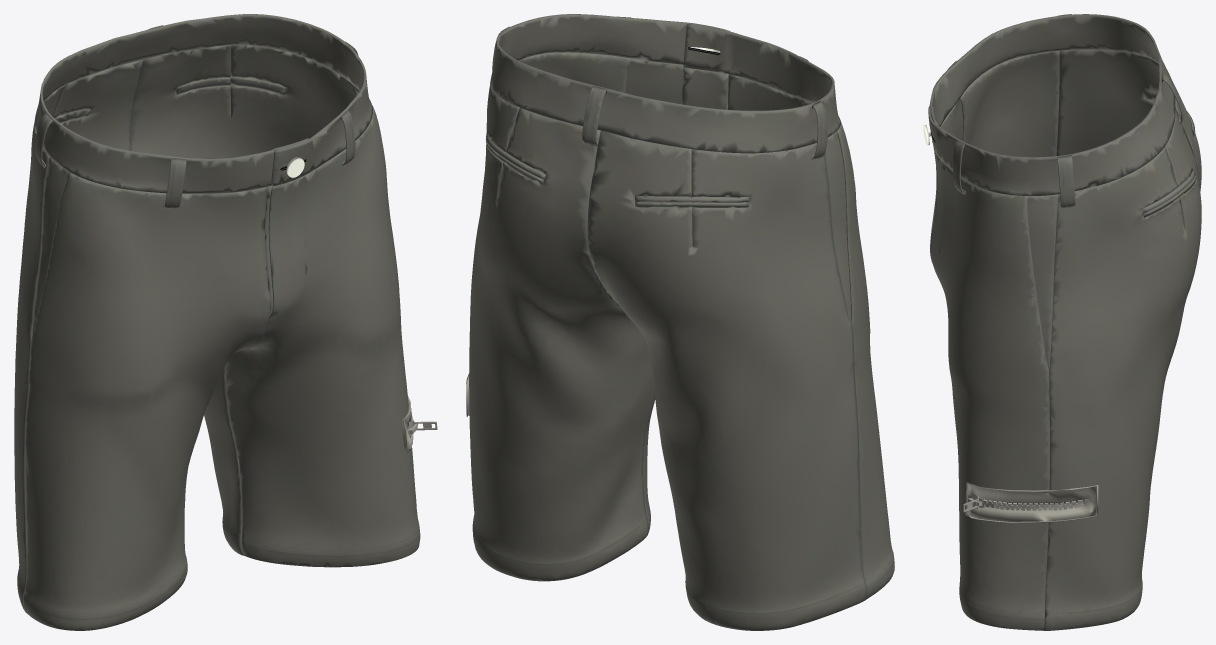
File: men_shorts_with_zip-optimized_1783504804995.glb
The picture shows the model from 3 angles, left to right: view 1: azimuth 30°, elevation 25°; view 2: azimuth 150°, elevation 25°; view 3: azimuth 270°, elevation 25°; orthographic projection. The views are drawn at different scales.
Parts seen in each view (by area): view 1: Men Suit Short Pant.005; view 2: Men Suit Short Pant.005; view 3: Men Suit Short Pant.005, Plane, Cube.002.
Part boxes in pixels (left/top/right/bottom): Men Suit Short Pant.005: left=14, top=14, right=420, bottom=630; Men Suit Short Pant.005: left=469, top=14, right=894, bottom=630; Men Suit Short Pant.005: left=928, top=14, right=1201, bottom=630; Plane: left=965, top=482, right=1098, bottom=522; Cube.002: left=983, top=499, right=1088, bottom=510.
Bounding box in the file's own units: 0.5299 × 0.6794 × 0.3556.
4 materials, 2 textured.
